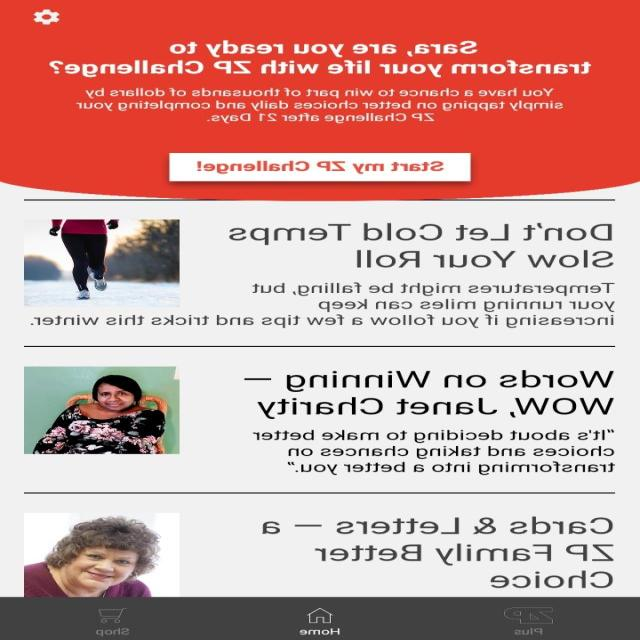Icon: (99, 608, 129, 623), (308, 607, 336, 623), (34, 9, 62, 25)
Image: (24, 366, 180, 454), (24, 219, 180, 306), (24, 512, 180, 597), (503, 606, 554, 624)
Text: (262, 515, 614, 588), (50, 40, 592, 78), (244, 369, 616, 419), (230, 222, 614, 268), (76, 88, 564, 124), (253, 429, 616, 475), (252, 282, 616, 312), (30, 314, 614, 328), (96, 627, 132, 637), (300, 626, 340, 634), (514, 627, 544, 635)
TextButton: (170, 152, 472, 182)
